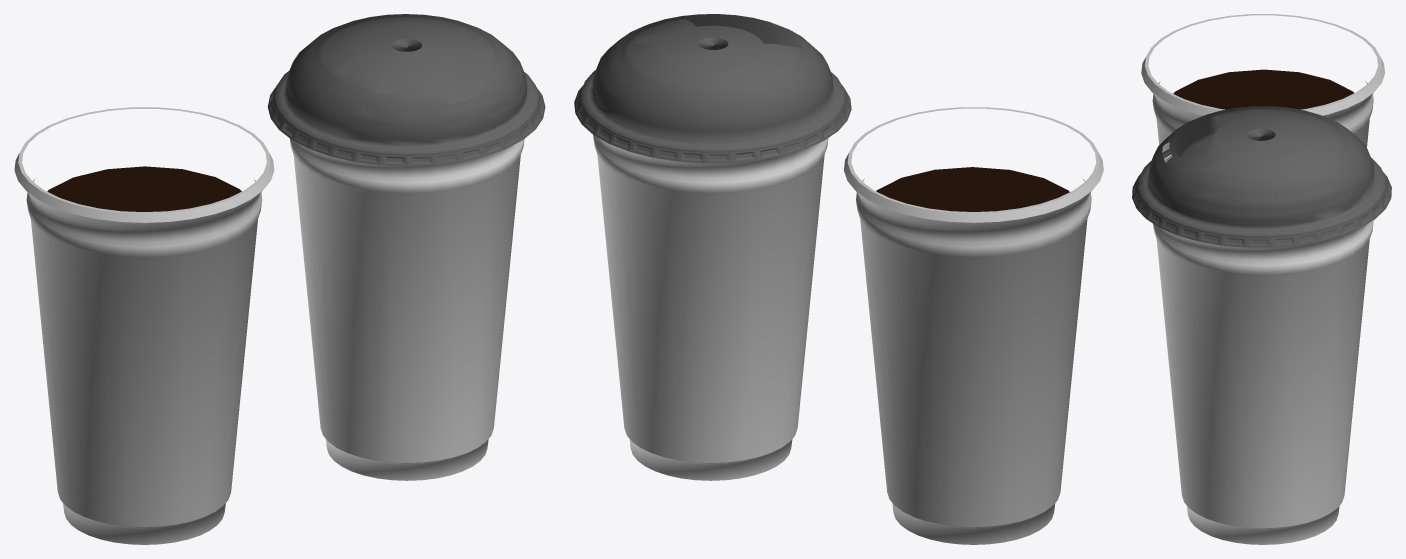
Rendered from ppEspresso.glb.
3 views of the same model, side by side, from view 1: azimuth 30°, elevation 25°; view 2: azimuth 150°, elevation 25°; view 3: azimuth 270°, elevation 25° (orthographic). The views are drawn at different scales.
Visible parts, largest first — view 1: ChamferCyl004, ChamferCyl003, Sphere001, Cylinder003; view 2: ChamferCyl004, ChamferCyl003, Sphere001, Cylinder003; view 3: ChamferCyl003, Sphere001, Cylinder003, ChamferCyl004.
Part boxes in pixels (bbox=[...]): ChamferCyl004: bbox=[14, 107, 274, 544]; ChamferCyl003: bbox=[289, 138, 524, 480]; Sphere001: bbox=[267, 14, 545, 166]; Cylinder003: bbox=[47, 166, 241, 211]; ChamferCyl004: bbox=[844, 107, 1103, 544]; ChamferCyl003: bbox=[593, 135, 828, 480]; Sphere001: bbox=[574, 14, 851, 163]; Cylinder003: bbox=[876, 167, 1069, 211]; ChamferCyl003: bbox=[1153, 154, 1373, 544]; Sphere001: bbox=[1132, 106, 1391, 247]; Cylinder003: bbox=[1173, 69, 1353, 109]; ChamferCyl004: bbox=[1141, 14, 1384, 162].
Bounding box in the file's own units: 134 × 105 × 65.23.
